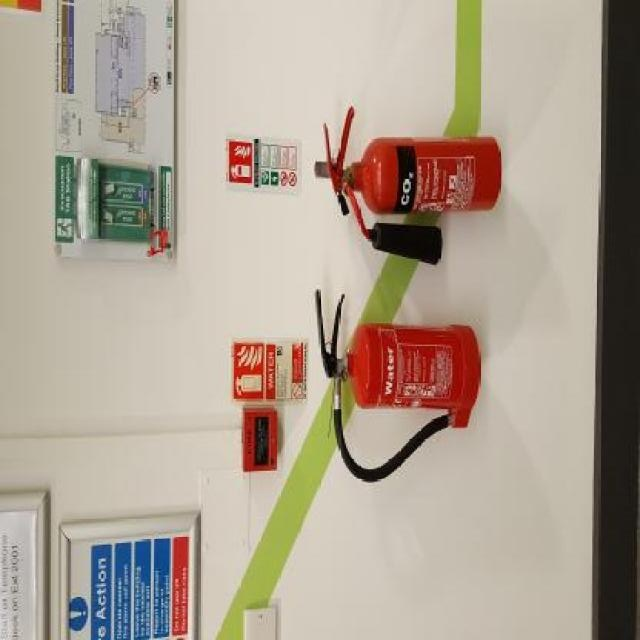fire extinguisher: (315, 289, 479, 483), (323, 108, 502, 264)
